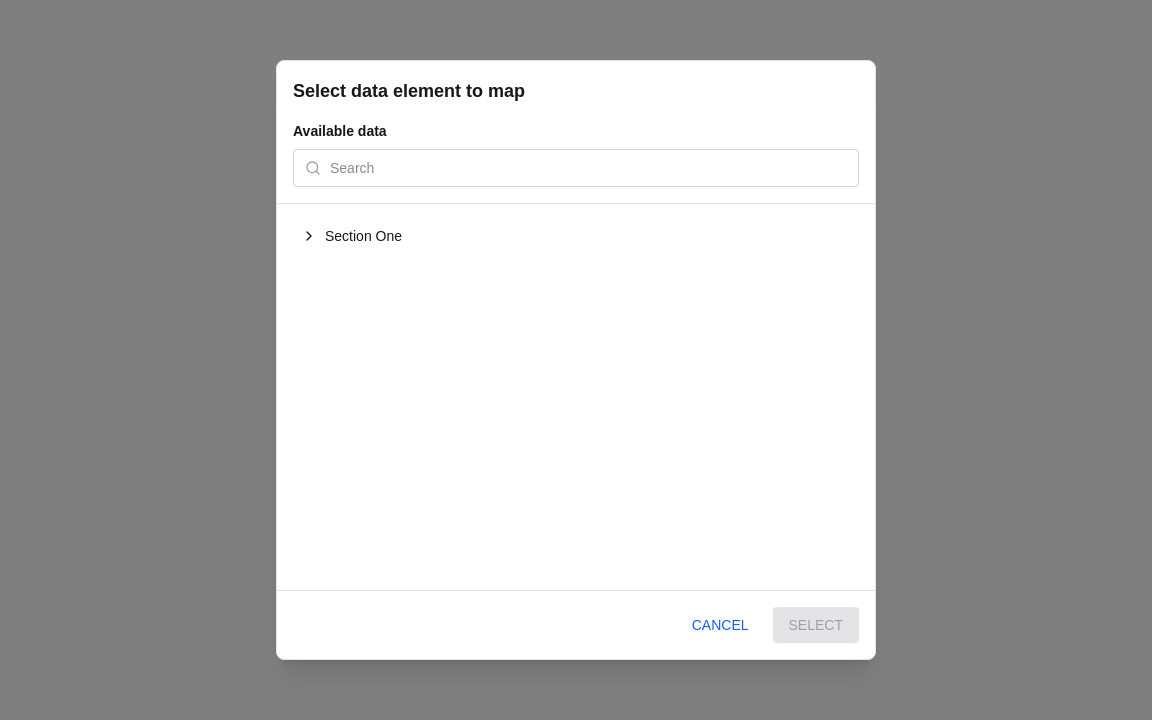
DataSelectorModal › search filters fields by name and auto-expands matching sections
The width and height of the screenshot is (1152, 720).
Step 1. Type "alpha" into the field with placeholder "Search" → coordinates (576, 168), box [293, 149, 859, 187]
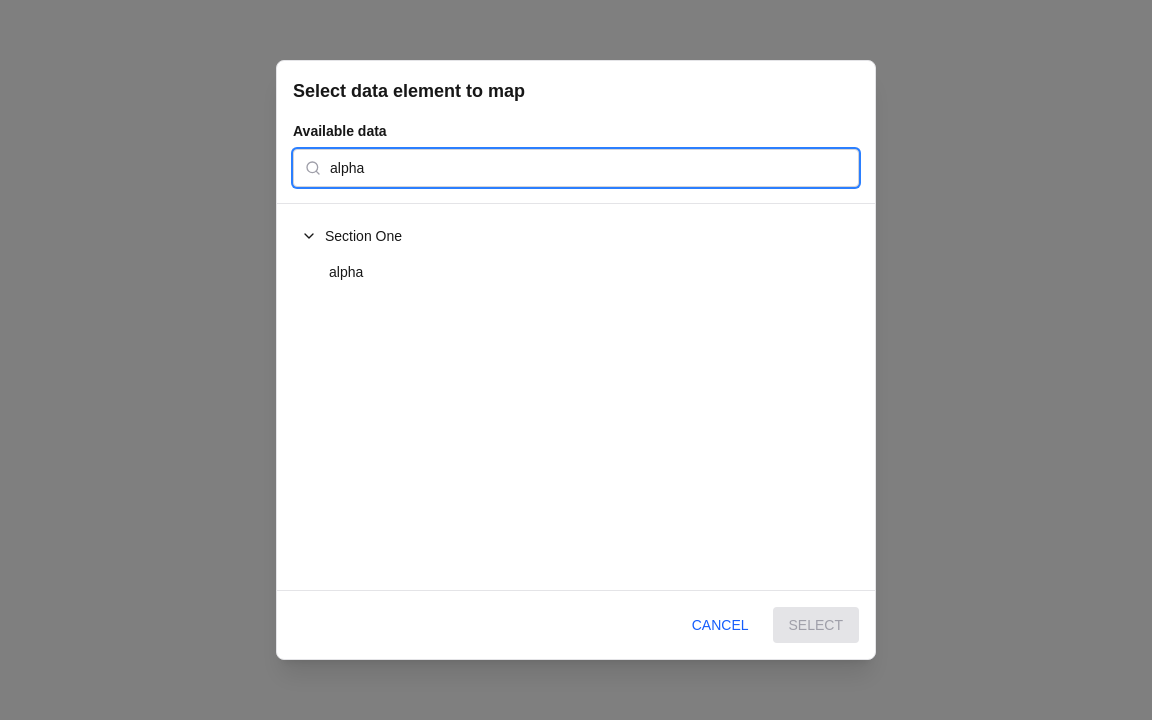
Expected: the button "alpha" is shown, [317, 256, 859, 288]
